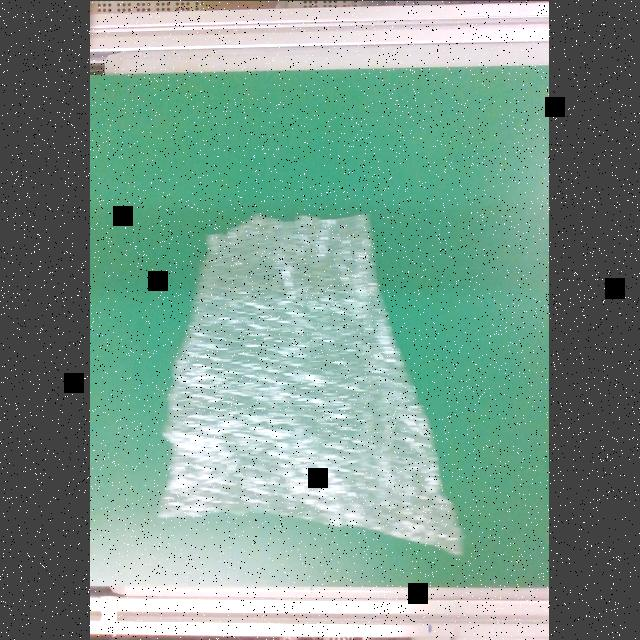scrap_plastic: (158, 211, 470, 559)
